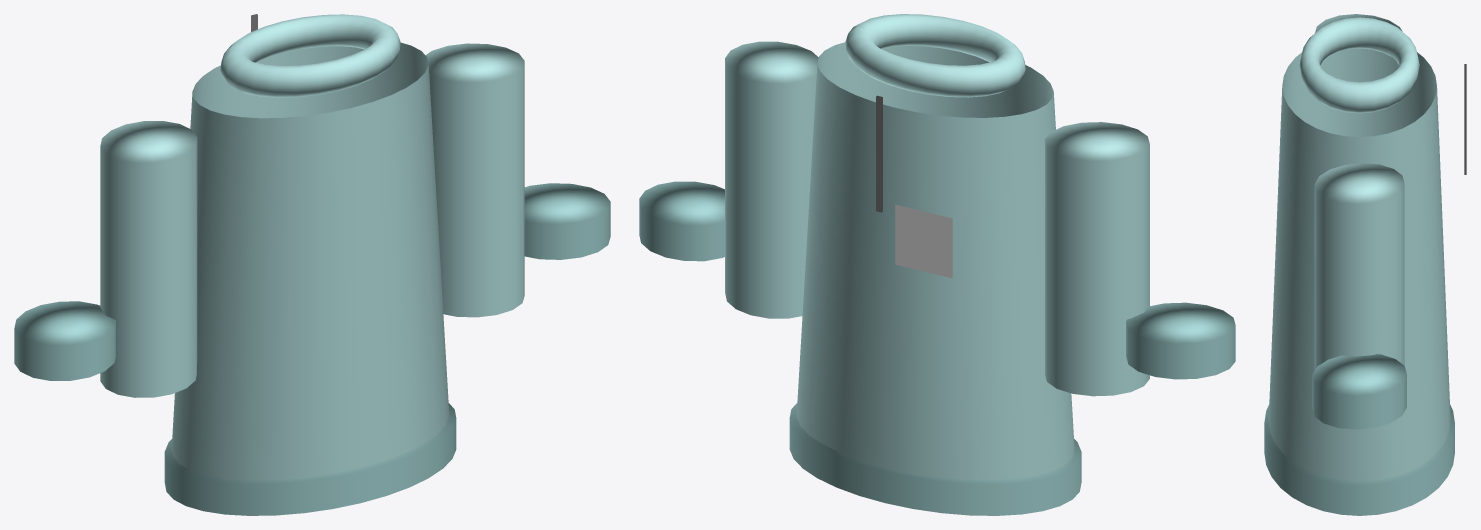
File: self_made.glb
The picture shows the model from 3 angles, left to right: view 1: azimuth 30°, elevation 25°; view 2: azimuth 150°, elevation 25°; view 3: azimuth 270°, elevation 25°; orthographic projection. The views are drawn at different scales.
Parts seen in each view (by area): view 1: Body, Cuffs; view 2: Body, Cuffs, LogoPlane_Chest, Zipper; view 3: Body, Cuffs, Zipper.
Part boxes in pixels (x1,y1,x2,y2): Body: (100, 14, 524, 480); Cuffs: (14, 183, 610, 515); Body: (725, 14, 1149, 480); Cuffs: (639, 181, 1235, 515); LogoPlane_Chest: (895, 204, 952, 278); Zipper: (876, 95, 882, 212); Body: (1268, 14, 1450, 481); Cuffs: (1264, 354, 1454, 515); Zipper: (1464, 64, 1466, 174).
Size of the model in its own units: 2.24 by 1.55 by 0.711.
